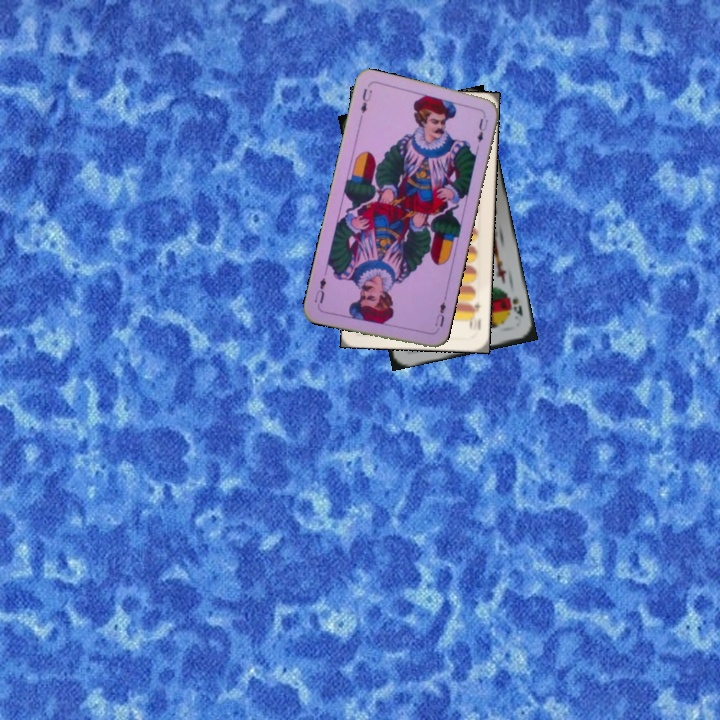E10: (466, 298, 484, 333)
EU: (431, 295, 449, 335), (356, 84, 375, 116)
SK: (508, 294, 525, 318)
